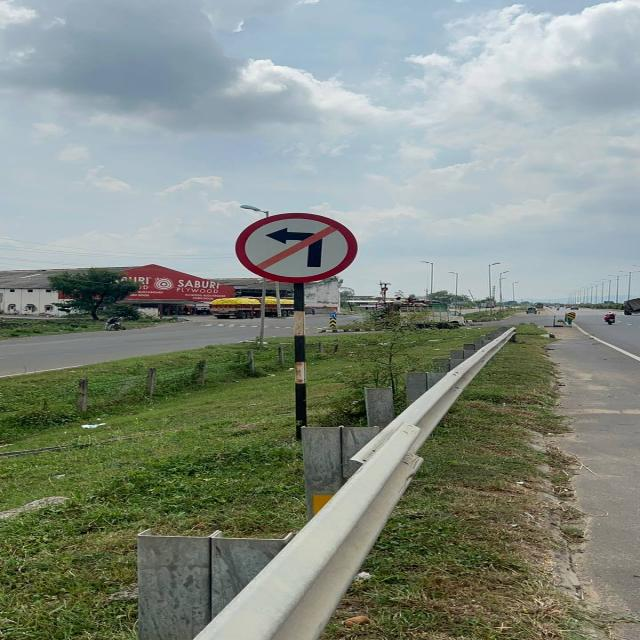No_left_Turn: (223, 204, 370, 293)
